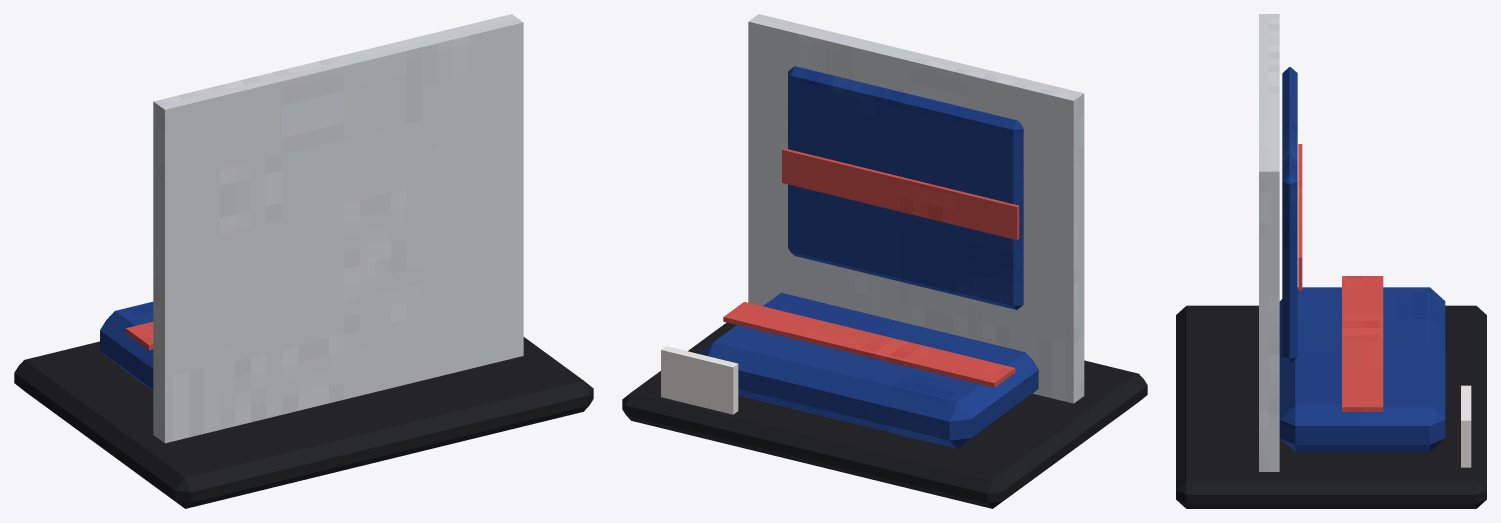
3 views of the same model, side by side, from view 1: azimuth 30°, elevation 25°; view 2: azimuth 150°, elevation 25°; view 3: azimuth 270°, elevation 25° (orthographic). The views are drawn at different scales.
Parts seen in each view (by area): view 1: Decor_swimsuit_stand; view 2: Decor_swimsuit_stand; view 3: Decor_swimsuit_stand.
Part boxes in pixels (x1,y1,x2,y2): Decor_swimsuit_stand: (14, 14, 593, 508); Decor_swimsuit_stand: (622, 14, 1147, 508); Decor_swimsuit_stand: (1176, 14, 1486, 508).
Bounding box in the file's own units: 0.42 × 0.35 × 0.3.
Materials: 5 (5 with a texture image).
